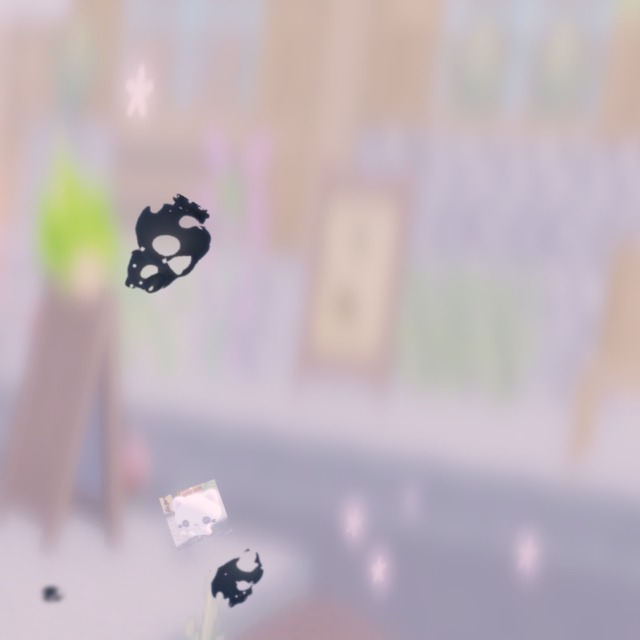urso_branco: (159, 479, 233, 551)
urso_preto: (95, 178, 229, 321), (189, 532, 286, 625), (37, 582, 68, 607)
